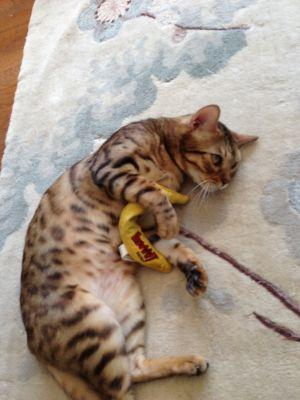bengal: (173, 99, 263, 195)
